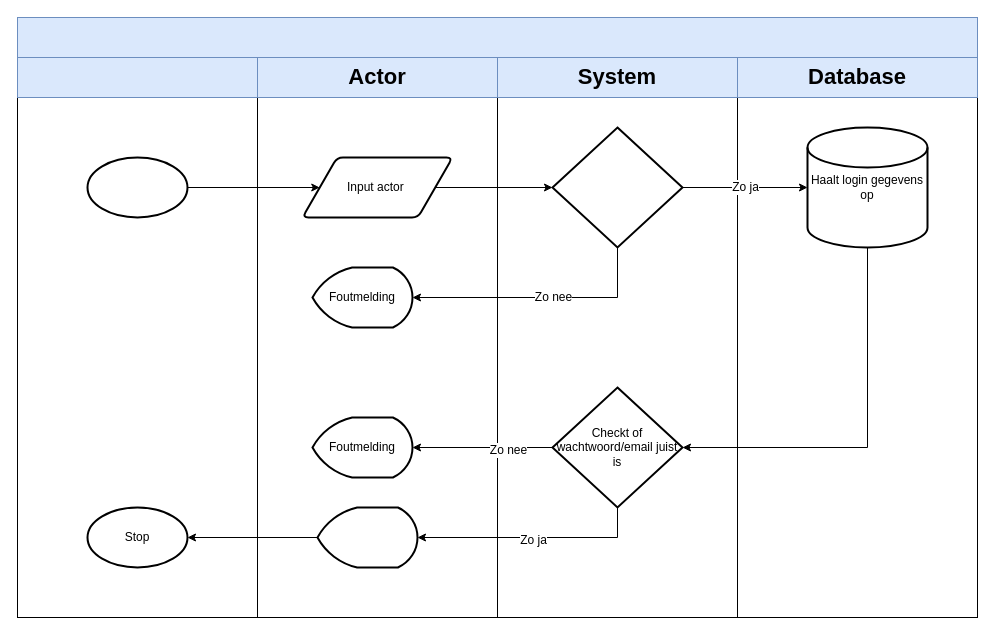
Image size: 995x635. Some labels were removed from this diagram. Here are the shapes that lost their labels. From the top down, the centre of each, then its label:
At [497,37]: "Login".
At [137,187]: "Start".
At [617,187]: "Checkt of alle velden zijn ingevuld".
At [367,537]: "Actor is ingelogd".
